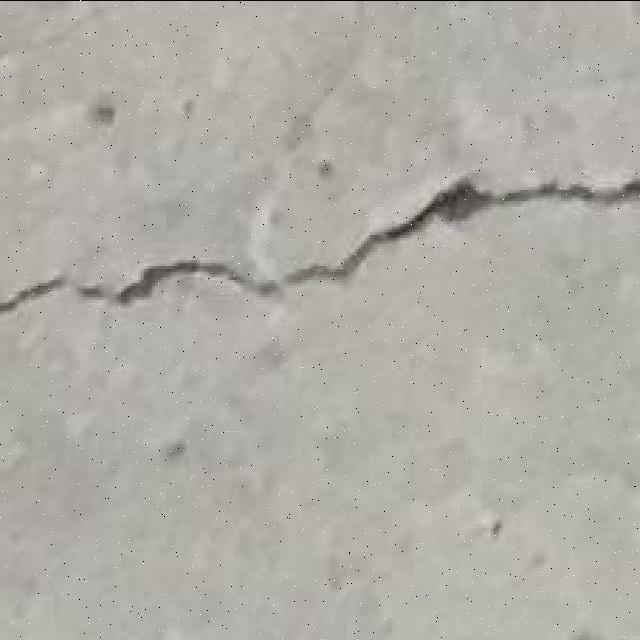crack: (1, 172, 638, 314), (487, 173, 634, 210)
